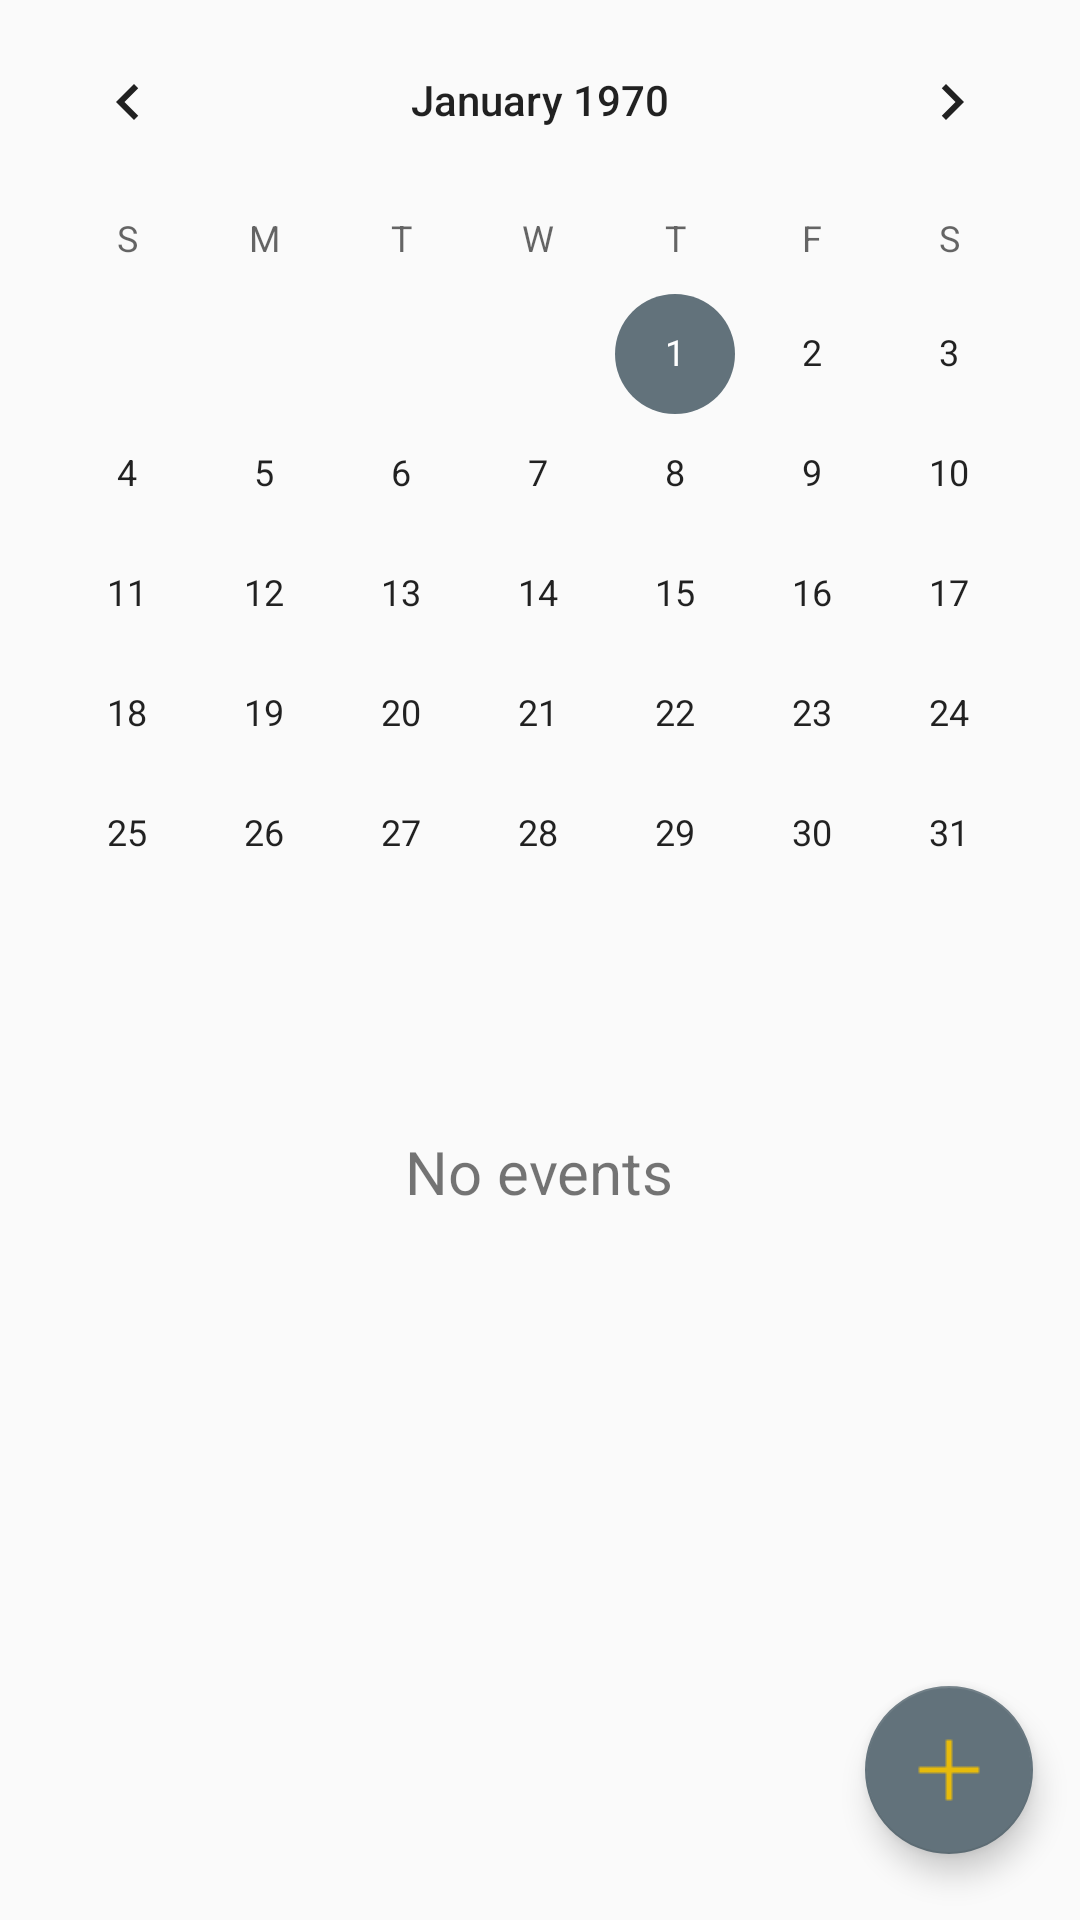

Where icons sit on this 1080px×1920px app screen, as box=[x1, y1, x2, y2]:
add: box=[865, 1686, 1033, 1854]
